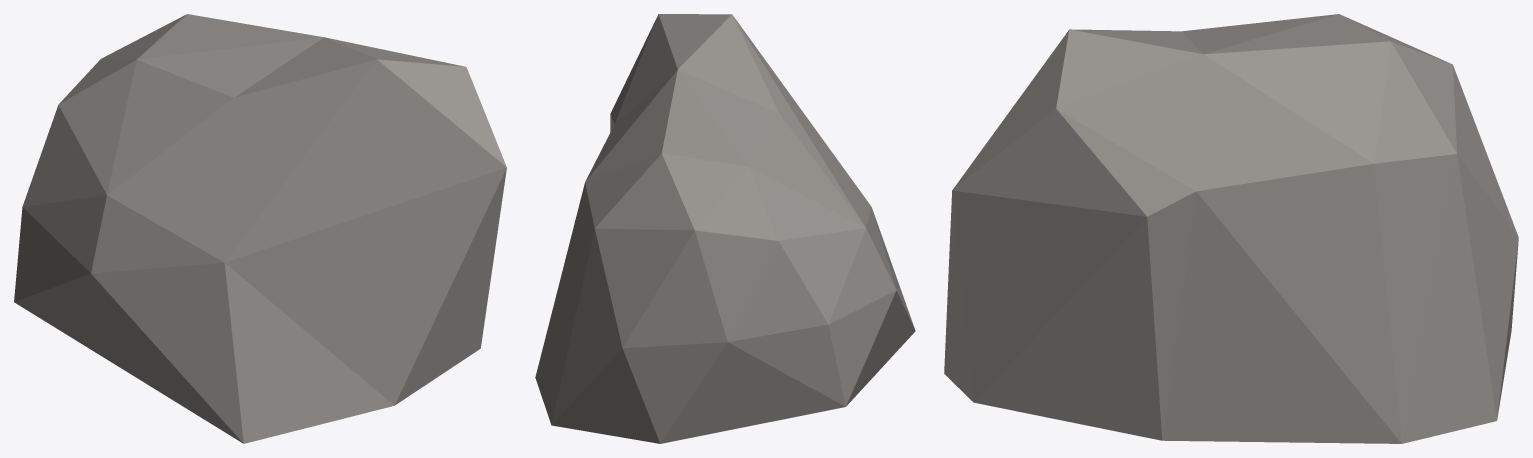
The model's file is Rock_3.fbx.
3 views of the same model, side by side, from view 1: azimuth 30°, elevation 25°; view 2: azimuth 150°, elevation 25°; view 3: azimuth 270°, elevation 25° (orthographic). The views are drawn at different scales.
Parts seen in each view (by area): view 1: Icosphere; view 2: Icosphere; view 3: Icosphere.
Part boxes in pixels (left/top/right/bottom): Icosphere: left=14, top=14, right=506, bottom=443; Icosphere: left=535, top=14, right=915, bottom=443; Icosphere: left=944, top=14, right=1518, bottom=443.
Size of the model in its own units: 4.08 by 3.78 by 4.92.
